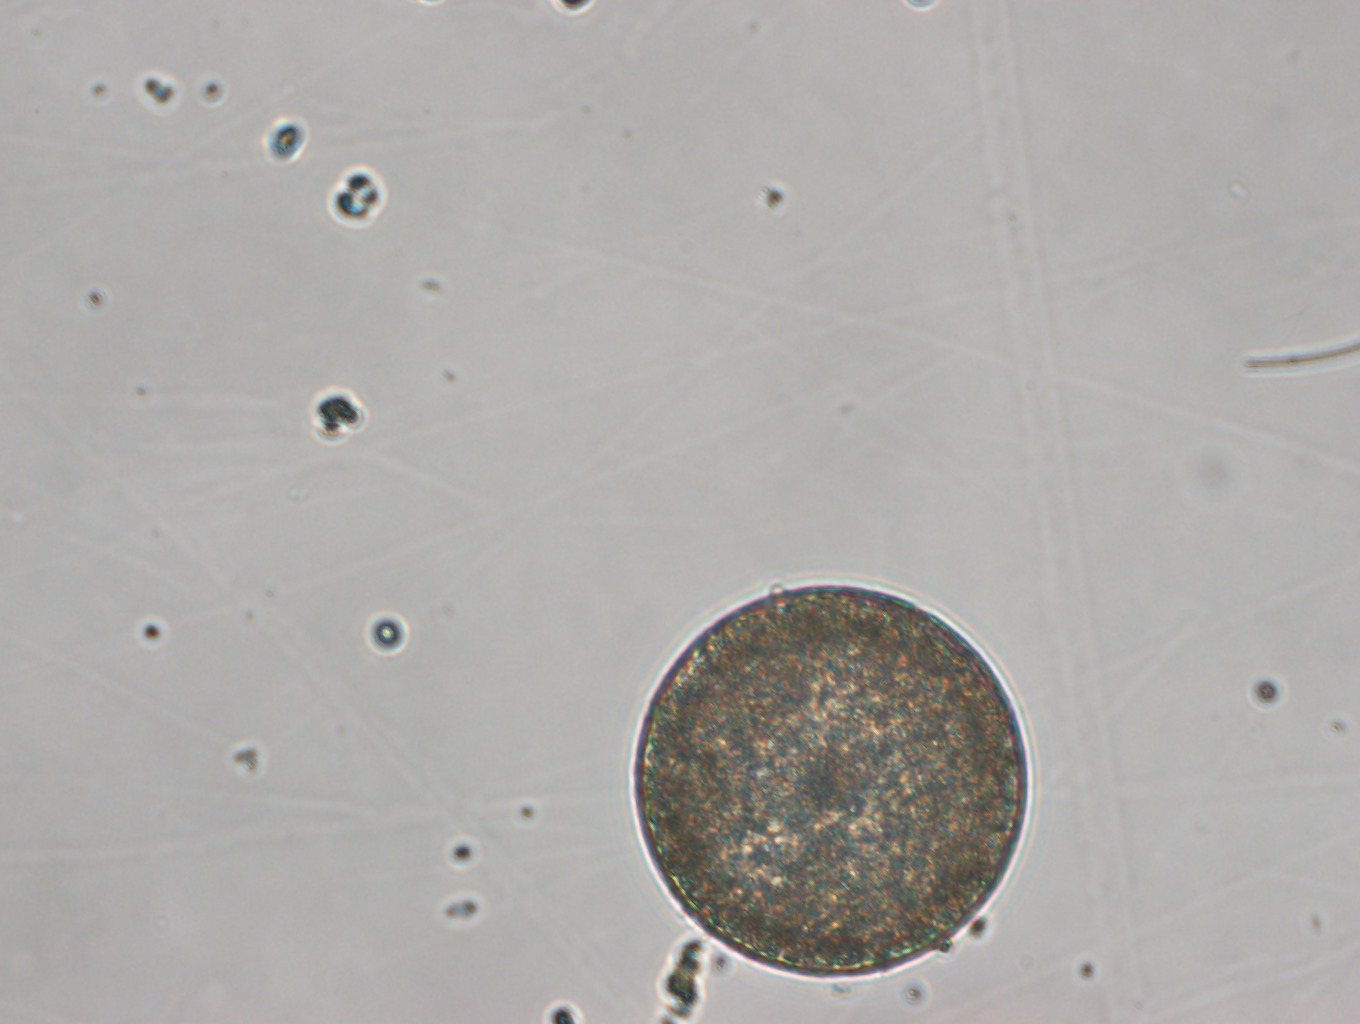coscinodiscus: (628, 583, 1045, 981)
